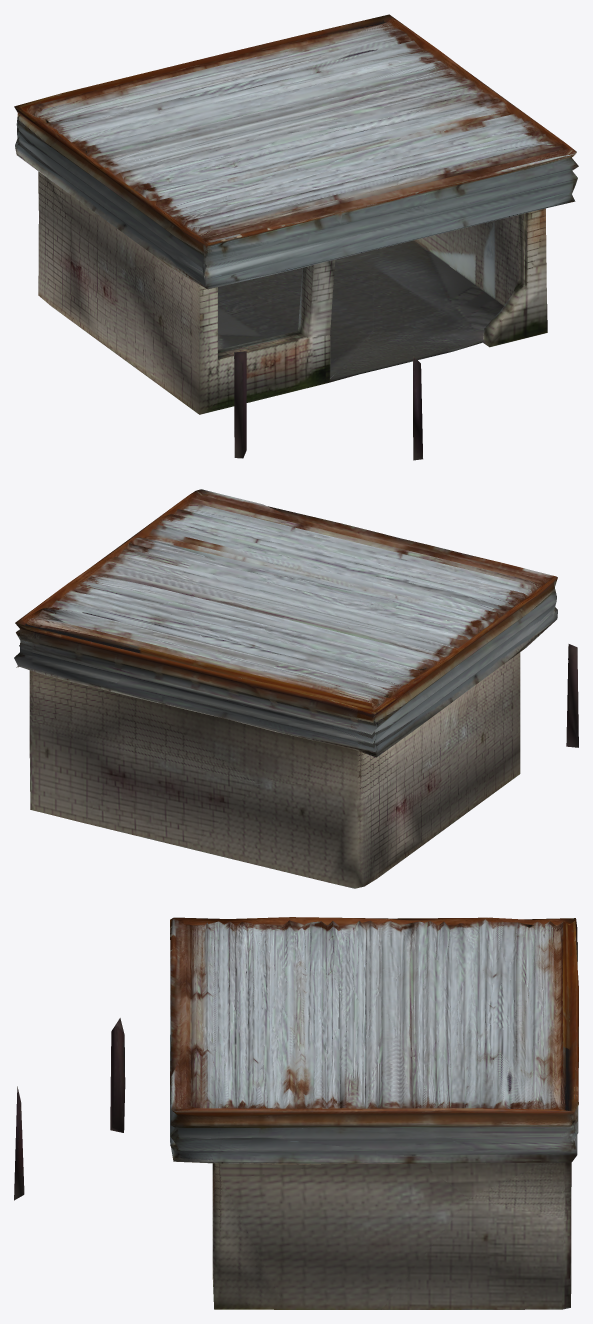
Rendered from Brick_Garage_texture.glb.
3 views of the same model, one above another, from view 1: azimuth 30°, elevation 25°; view 2: azimuth 150°, elevation 25°; view 3: azimuth 270°, elevation 25° (orthographic). The views are drawn at different scales.
Size of the model in its own units: 1.56 by 0.787 by 1.91.
1 material, 1 textured.
